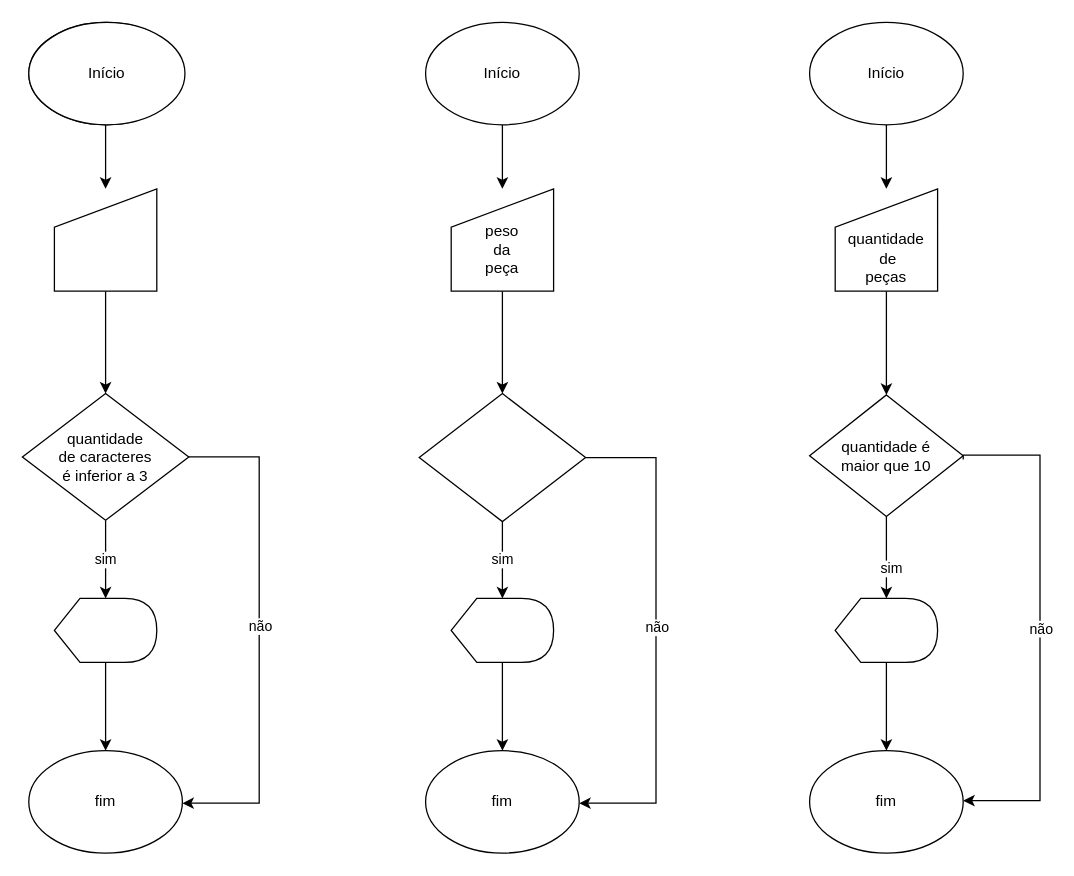
Some shapes in this 1074 by 876 pixel diagram are drawn without their labels. Each missing label, with the centre of its shape:
"cadastrar" goes at [502,629].
"capacidade insuficiente" goes at [886,629].
"msg de erro" goes at [105,629].
"nome da peça" goes at [105,239].
"peso é superior a 100gr" goes at [502,457].
